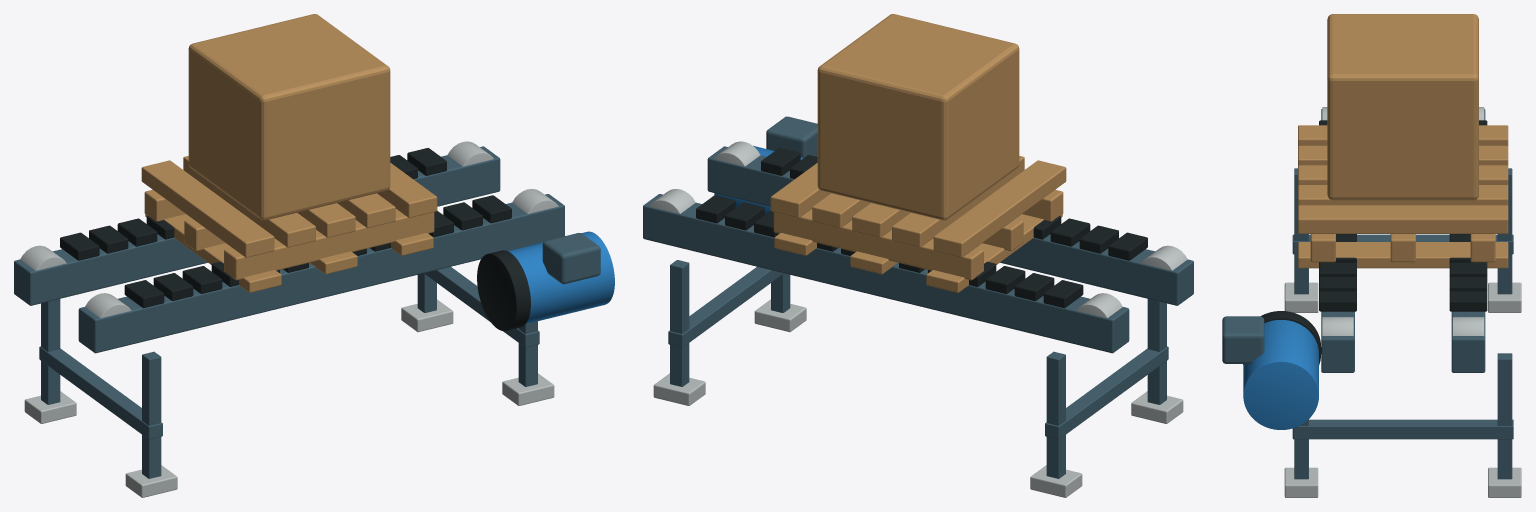
File: pallet_chain_conveyor.glb
3 views of the same model, side by side, from view 1: azimuth 30°, elevation 25°; view 2: azimuth 150°, elevation 25°; view 3: azimuth 270°, elevation 25° (orthographic).
Parts seen in each view (by area): view 1: PALLETIZED_LOAD, CHAIN_RAIL_-0.31, CHAIN_RAIL_0.31, PALLET_DECK_-0.45, PALLET_STRINGER_-0.38, CHAIN_DRIVE_MOTOR, CHAIN_DRIVE_FAN, CROSS_-1.04, CHAIN_DRIVE_TERMINAL, LEG_-1.04_-0.48300000000000004, PALLET_DECK_-0.22, PALLET_DECK_0.45 (+28 smaller); view 2: PALLETIZED_LOAD, CHAIN_RAIL_0.31, CHAIN_RAIL_-0.31, PALLET_DECK_-0.45, PALLET_STRINGER_0.38, CROSS_-1.04, CROSS_1.04, LEG_-1.04_0.48300000000000004, LEG_1.04_0.48300000000000004, PALLET_DECK_-0.22, PALLET_DECK_0.45, LEG_-1.04_-0.48300000000000004 (+26 smaller); view 3: PALLETIZED_LOAD, CHAIN_DRIVE_MOTOR, PALLET_DECK_0.45, CROSS_1.04, PALLET_BOTTOM_0.42, PALLET_DECK_0.22, CHAIN_DRIVE_TERMINAL, LEG_1.04_0.48300000000000004, CHAIN_RAIL_0.31, CHAIN_RAIL_-0.31, PALLET_DECK_-0.45, PALLET_DECK_-0.22 (+21 smaller).
Part boxes in pixels (left/top/right/bottom): PALLETIZED_LOAD: left=188, top=14, right=390, bottom=220; CHAIN_RAIL_-0.31: left=78, top=194, right=564, bottom=353; CHAIN_RAIL_0.31: left=14, top=146, right=500, bottom=305; PALLET_DECK_-0.45: left=141, top=160, right=274, bottom=257; PALLET_STRINGER_-0.38: left=224, top=209, right=434, bottom=280; CHAIN_DRIVE_MOTOR: left=508, top=231, right=614, bottom=323; CHAIN_DRIVE_FAN: left=477, top=250, right=530, bottom=331; CROSS_-1.04: left=39, top=346, right=162, bottom=439; CHAIN_DRIVE_TERMINAL: left=542, top=233, right=600, bottom=284; LEG_-1.04_-0.48300000000000004: left=142, top=351, right=161, bottom=478; PALLET_DECK_-0.22: left=183, top=156, right=315, bottom=247; PALLET_DECK_0.45: left=377, top=163, right=437, bottom=217; PALLETIZED_LOAD: left=817, top=14, right=1019, bottom=220; CHAIN_RAIL_0.31: left=643, top=194, right=1129, bottom=353; CHAIN_RAIL_-0.31: left=707, top=146, right=1193, bottom=305; PALLET_DECK_-0.45: left=933, top=160, right=1066, bottom=257; PALLET_STRINGER_0.38: left=773, top=209, right=983, bottom=280; CROSS_-1.04: left=1045, top=346, right=1168, bottom=439; CROSS_1.04: left=668, top=266, right=783, bottom=347; LEG_-1.04_0.48300000000000004: left=1046, top=351, right=1065, bottom=478; LEG_1.04_0.48300000000000004: left=670, top=260, right=689, bottom=386; PALLET_DECK_-0.22: left=892, top=156, right=1024, bottom=247; PALLET_DECK_0.45: left=770, top=163, right=830, bottom=217; LEG_-1.04_-0.48300000000000004: left=1147, top=299, right=1166, bottom=404; PALLETIZED_LOAD: left=1327, top=14, right=1478, bottom=200; CHAIN_DRIVE_MOTOR: left=1243, top=319, right=1318, bottom=429; PALLET_DECK_0.45: left=1298, top=205, right=1508, bottom=233; CROSS_1.04: left=1292, top=419, right=1513, bottom=439; PALLET_BOTTOM_0.42: left=1298, top=242, right=1508, bottom=268; PALLET_DECK_0.22: left=1298, top=185, right=1508, bottom=205; CHAIN_DRIVE_TERMINAL: left=1222, top=316, right=1264, bottom=363; LEG_1.04_0.48300000000000004: left=1497, top=353, right=1512, bottom=479; CHAIN_RAIL_0.31: left=1451, top=109, right=1485, bottom=372; CHAIN_RAIL_-0.31: left=1321, top=109, right=1354, bottom=372; PALLET_DECK_-0.45: left=1298, top=125, right=1508, bottom=146; PALLET_DECK_-0.22: left=1298, top=145, right=1508, bottom=165.
Size of the model in its own units: 2.66 by 1.85 by 1.42.
